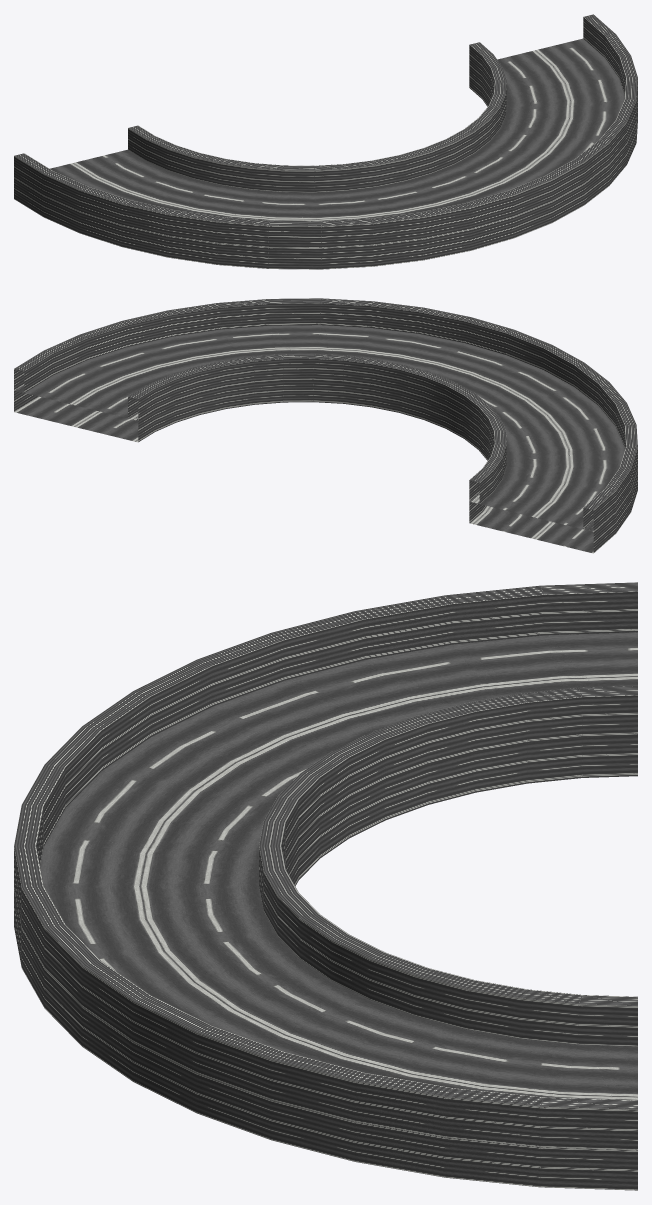
Rendered from F-Uturn R.obj.
3 views of the same model, one above another, from view 1: azimuth 30°, elevation 25°; view 2: azimuth 150°, elevation 25°; view 3: azimuth 270°, elevation 25° (orthographic). The views are drawn at different scales.
Visible parts, largest first — view 1: polySurface5; view 2: polySurface5; view 3: polySurface5.
Boxes of the visible parts, <box> form: polySurface5: <box>14,14,637,269</box>; polySurface5: <box>14,298,637,553</box>; polySurface5: <box>14,582,637,1190</box>.
Bounding box in the file's own units: 2205 × 157 × 1102.
Materials: 1 (1 with a texture image).
